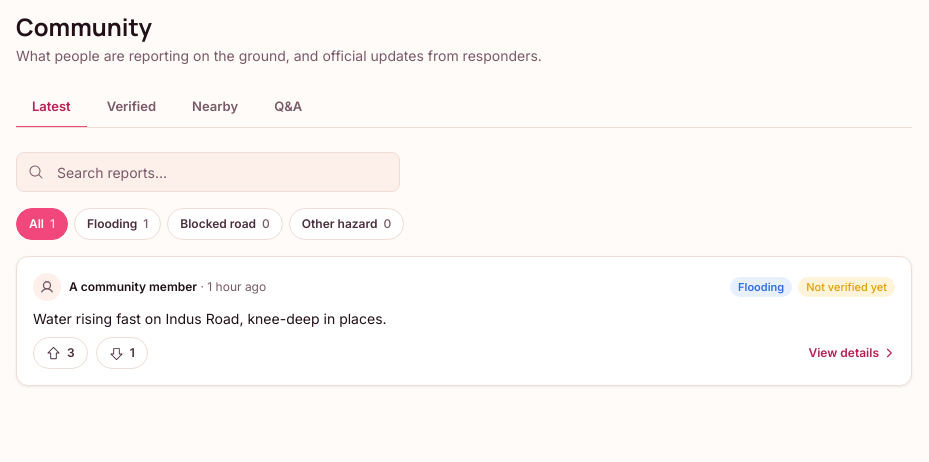
CommunityPage — voting › a refused vote puts the truth back and says why in the server’s words
Click the button named "Upvote". click: {"x": 60, "y": 353}
box: [33, 337, 88, 369]
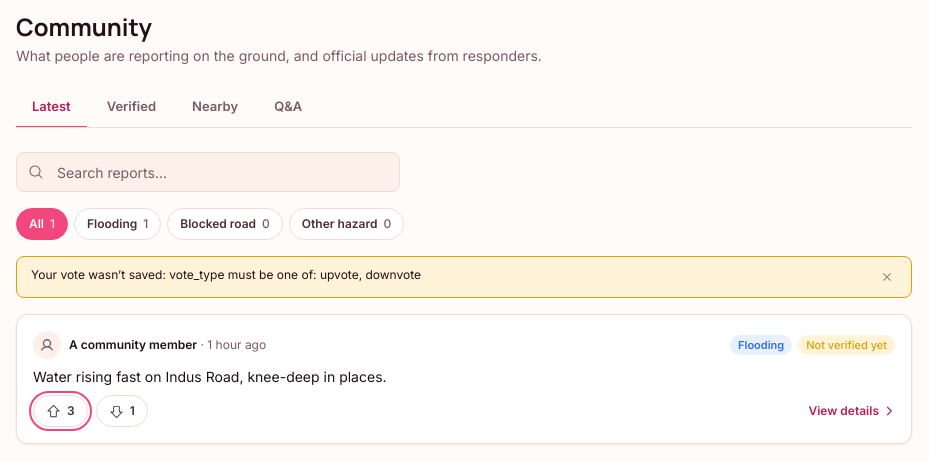
Now the text "Your vote wasn’t saved: vote_type must be one of: upvote, downvote" is shown, box [31, 267, 421, 282]
